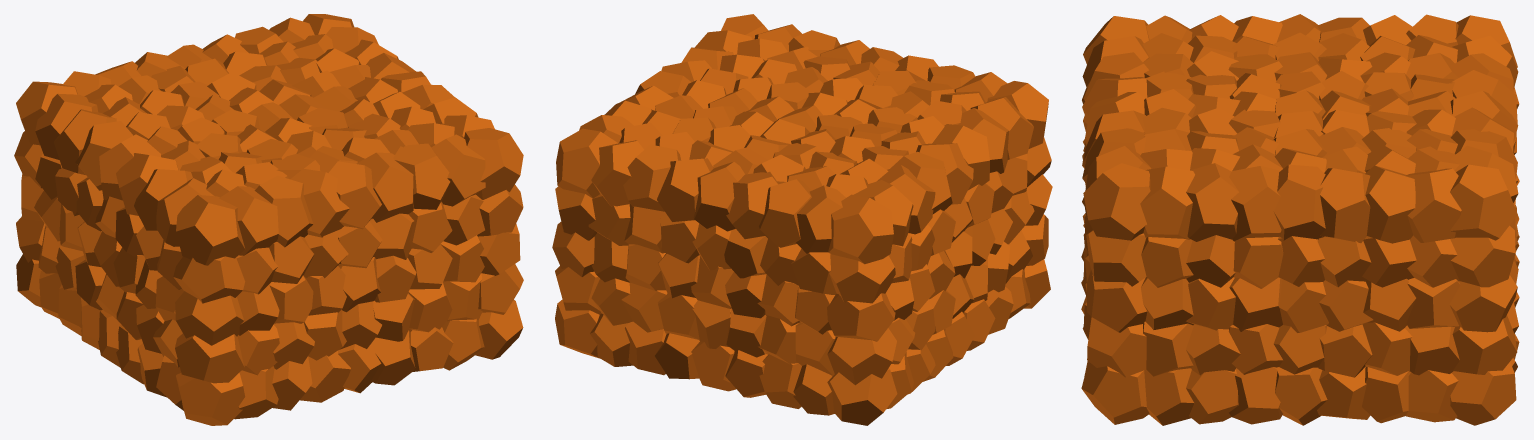
File: platformbase.fbx
3 views of the same model, side by side, from view 1: azimuth 30°, elevation 25°; view 2: azimuth 150°, elevation 25°; view 3: azimuth 270°, elevation 25° (orthographic). The views are drawn at different scales.
Parts seen in each view (by area): view 1: Platonic_36, Platonic_0, Platonic_44, Platonic_18, Platonic_9, Platonic_27, Platonic_41, Platonic_37, Platonic_43, Platonic_42, Platonic_38, Platonic_39 (+137 smaller); view 2: Platonic_396, Platonic_360, Platonic_404, Platonic_369, Platonic_387, Platonic_378, Platonic_398, Platonic_402, Platonic_400, Platonic_401, Platonic_397, Platonic_399 (+137 smaller); view 3: Platonic_44, Platonic_404, Platonic_134, Platonic_224, Platonic_314, Platonic_269, Platonic_89, Platonic_179, Platonic_359, Platonic_368, Platonic_8, Platonic_395 (+105 smaller).
Part boxes in pixels (box(x1,y1,x2,y2)): Platonic_36: box(176, 195, 244, 265); Platonic_0: box(176, 373, 245, 425); Platonic_44: box(464, 128, 523, 199); Platonic_18: box(175, 291, 243, 345); Platonic_9: box(175, 333, 244, 383); Platonic_27: box(173, 256, 245, 303); Platonic_41: box(356, 152, 413, 222); Platonic_37: box(219, 186, 278, 255); Platonic_43: box(431, 134, 485, 206); Platonic_42: box(393, 143, 450, 209); Platonic_38: box(254, 175, 313, 247); Platonic_39: box(290, 168, 349, 237); Platonic_396: box(828, 194, 893, 264); Platonic_360: box(827, 368, 897, 425); Platonic_404: box(556, 128, 617, 198); Platonic_369: box(827, 328, 896, 385); Platonic_387: box(829, 254, 895, 303); Platonic_378: box(827, 293, 895, 341); Platonic_398: box(759, 179, 811, 247); Platonic_402: box(623, 144, 681, 211); Platonic_400: box(693, 161, 744, 231); Platonic_401: box(657, 158, 713, 221); Platonic_397: box(796, 185, 845, 253); Platonic_399: box(726, 171, 778, 239); Platonic_44: box(1083, 163, 1150, 240); Platonic_404: box(1450, 164, 1517, 240); Platonic_134: box(1186, 163, 1238, 241); Platonic_224: box(1273, 164, 1325, 240); Platonic_314: box(1365, 165, 1415, 243); Platonic_269: box(1320, 168, 1370, 243); Platonic_89: box(1140, 166, 1194, 239); Platonic_179: box(1229, 166, 1281, 241); Platonic_359: box(1405, 168, 1461, 242); Platonic_368: box(1450, 362, 1516, 425); Platonic_8: box(1081, 361, 1149, 424); Platonic_395: box(1450, 225, 1515, 287).
Bounding box in the file's own units: 2799 × 1800 × 2800.
